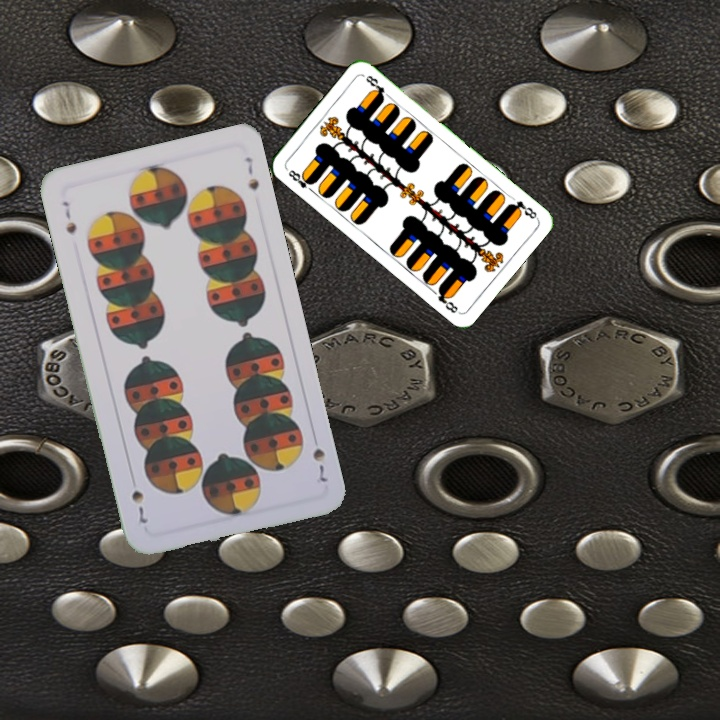E8: (284, 165, 317, 195), (505, 197, 540, 221)
S7: (308, 444, 330, 487), (57, 197, 79, 237)
